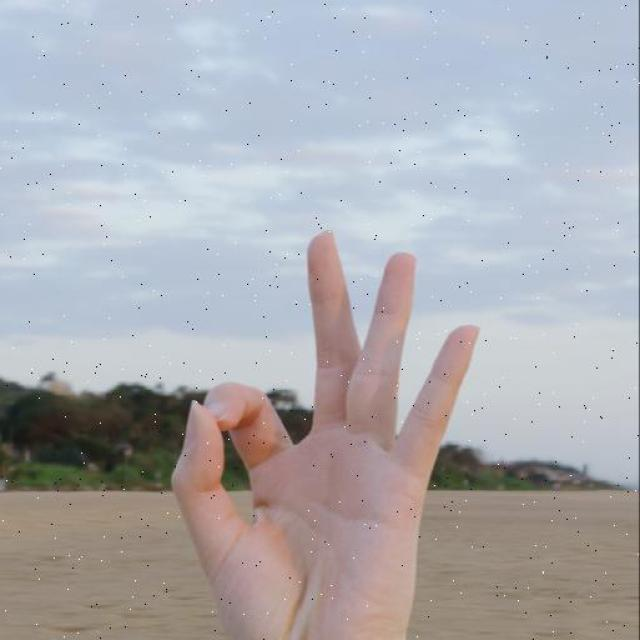F: (169, 227, 484, 640)
